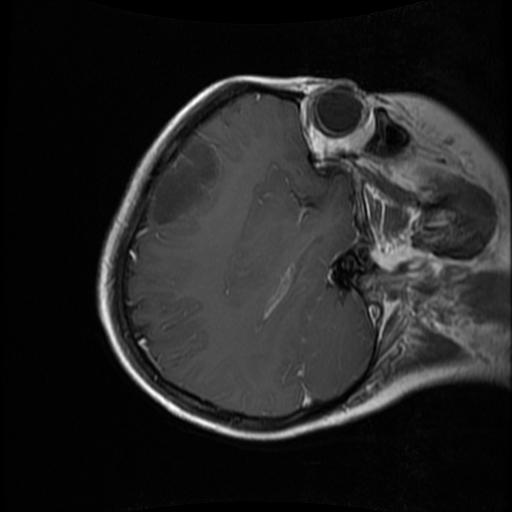glioma: (148, 134, 220, 226)
